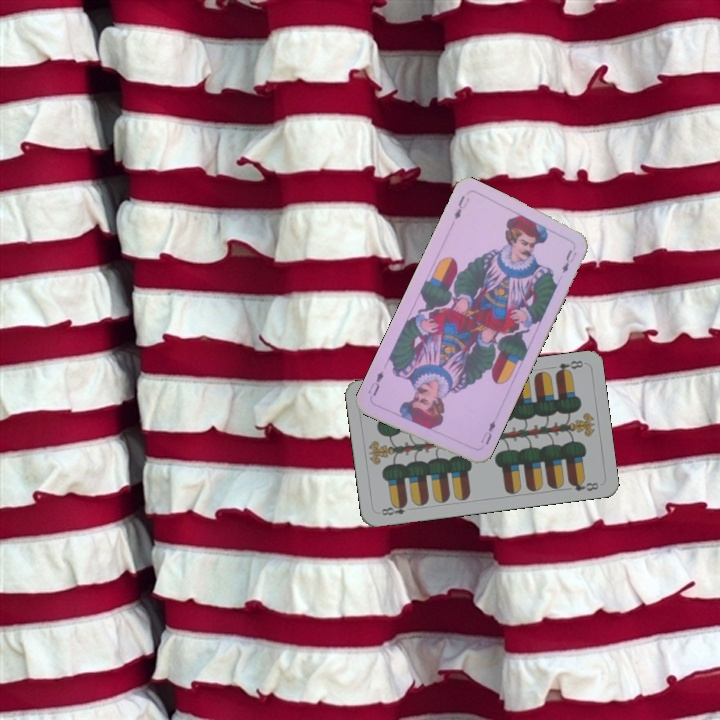E8: (551, 356, 586, 377), (375, 499, 410, 518)
EU: (450, 191, 472, 222), (477, 417, 498, 447)
